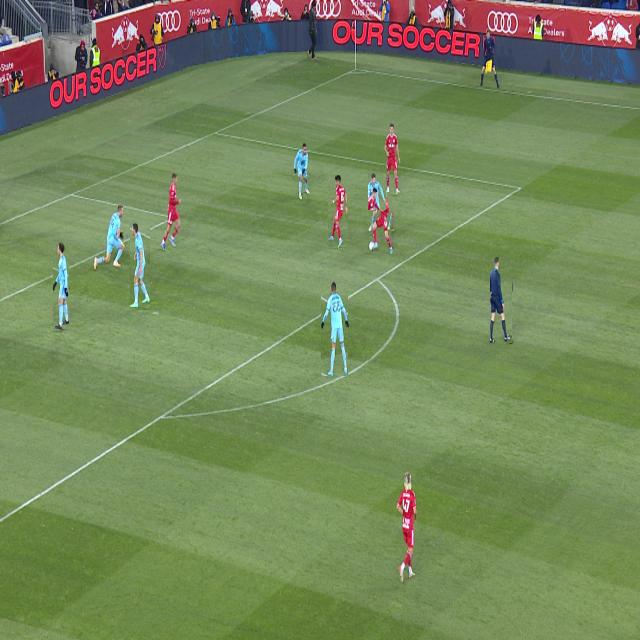football: (369, 240, 375, 251)
player: (322, 282, 348, 376), (396, 472, 417, 582), (94, 205, 125, 269), (130, 224, 150, 308), (161, 173, 181, 250), (53, 243, 69, 329), (329, 176, 348, 248), (372, 188, 392, 254), (384, 123, 400, 195), (294, 143, 310, 199), (368, 173, 386, 210), (368, 206, 379, 232), (388, 213, 393, 230)
referee: (490, 258, 512, 343)
